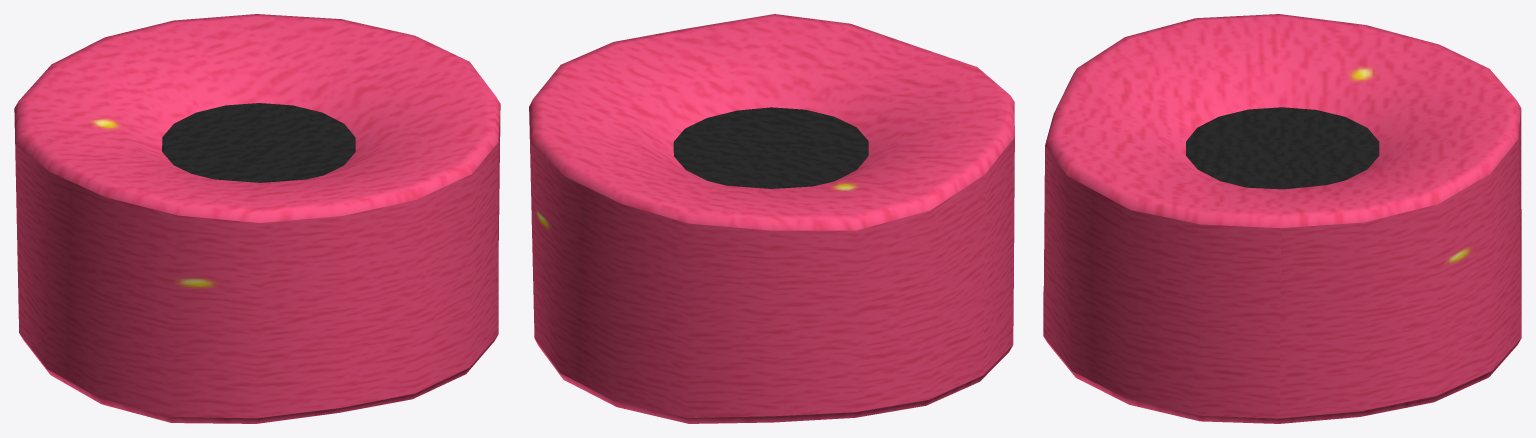
3 renders of one model, left to right at view 1: azimuth 30°, elevation 25°; view 2: azimuth 150°, elevation 25°; view 3: azimuth 270°, elevation 25°, orthographic.
Visible parts, largest first — view 1: YellowRound; view 2: YellowRound; view 3: YellowRound.
Part boxes in pixels (x1,y1,x2,y2): YellowRound: (14, 14, 500, 423); YellowRound: (529, 14, 1014, 423); YellowRound: (1043, 14, 1521, 423).
Bounding box in the file's own units: 179 × 89.28 × 175.
